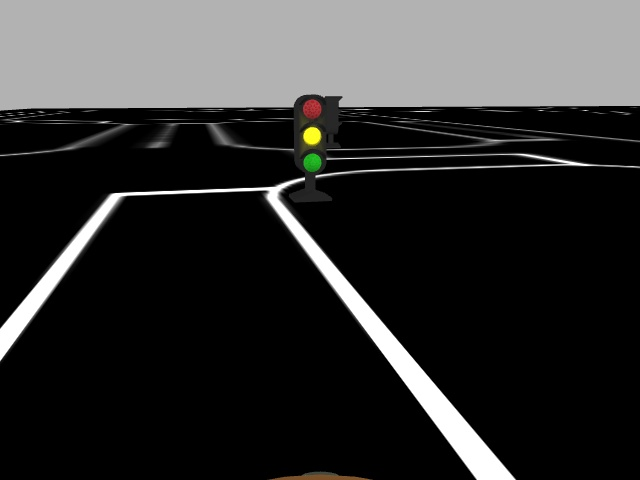yellow_light: (293, 95, 329, 173)
